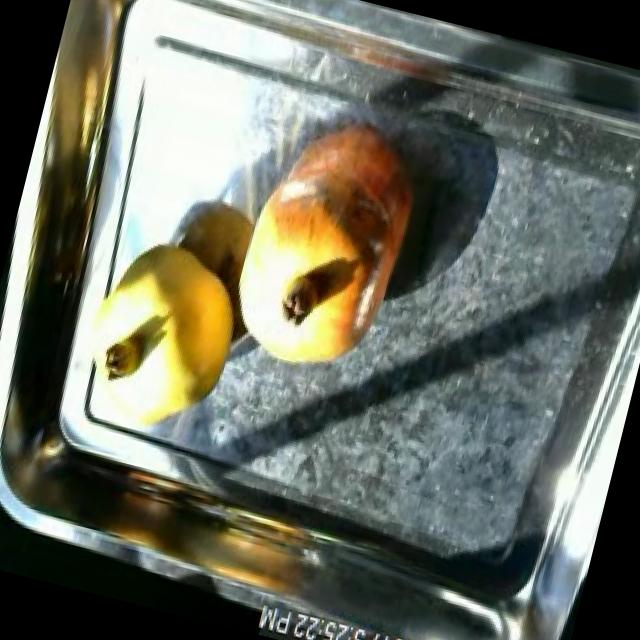fruit: (215, 129, 430, 395), (63, 217, 264, 455)
